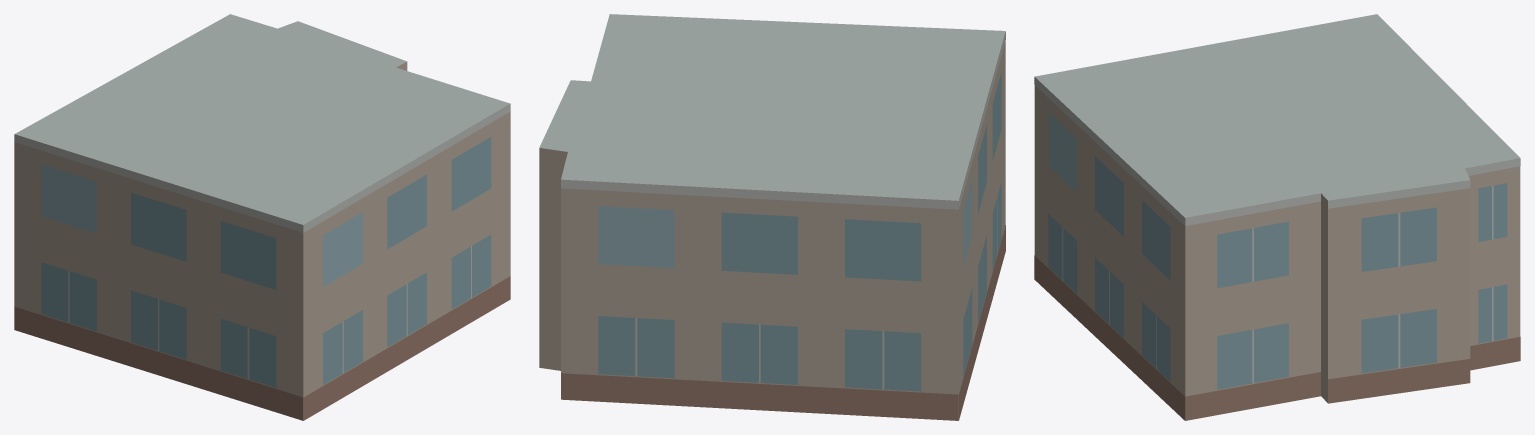
File: survey-upis-32850040.glb
The picture shows the model from 3 angles, left to right: view 1: azimuth 30°, elevation 25°; view 2: azimuth 150°, elevation 25°; view 3: azimuth 270°, elevation 25°; orthographic projection. The views are drawn at different scales.
Visible parts, largest first — view 1: survey-upis-32850040.tmp; view 2: survey-upis-32850040.tmp; view 3: survey-upis-32850040.tmp.
Boxes of the visible parts, bbox=[...] form: survey-upis-32850040.tmp: bbox=[14, 14, 510, 420]; survey-upis-32850040.tmp: bbox=[539, 14, 1005, 420]; survey-upis-32850040.tmp: bbox=[1034, 14, 1520, 420].
Bounding box in the file's own units: 13.16 × 6.1 × 13.25.
